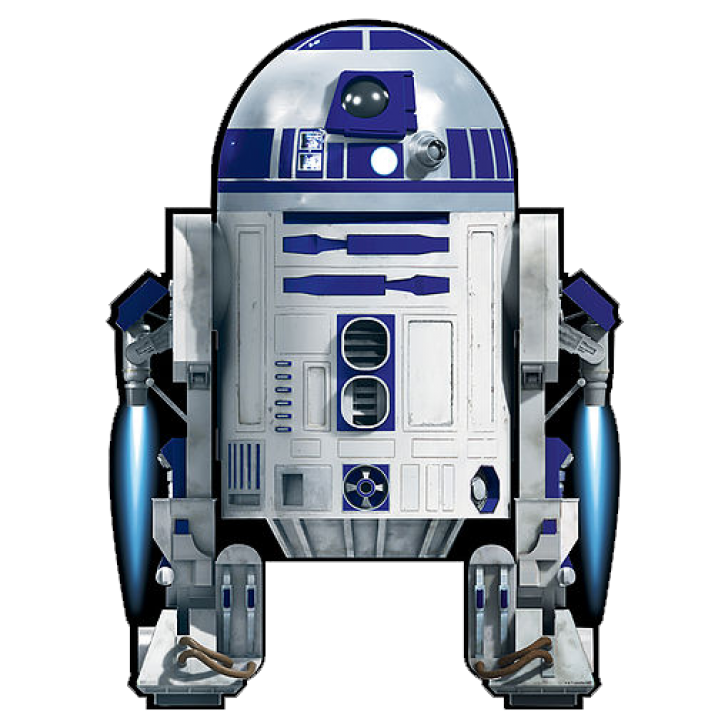r2d2: (109, 18, 621, 711)
